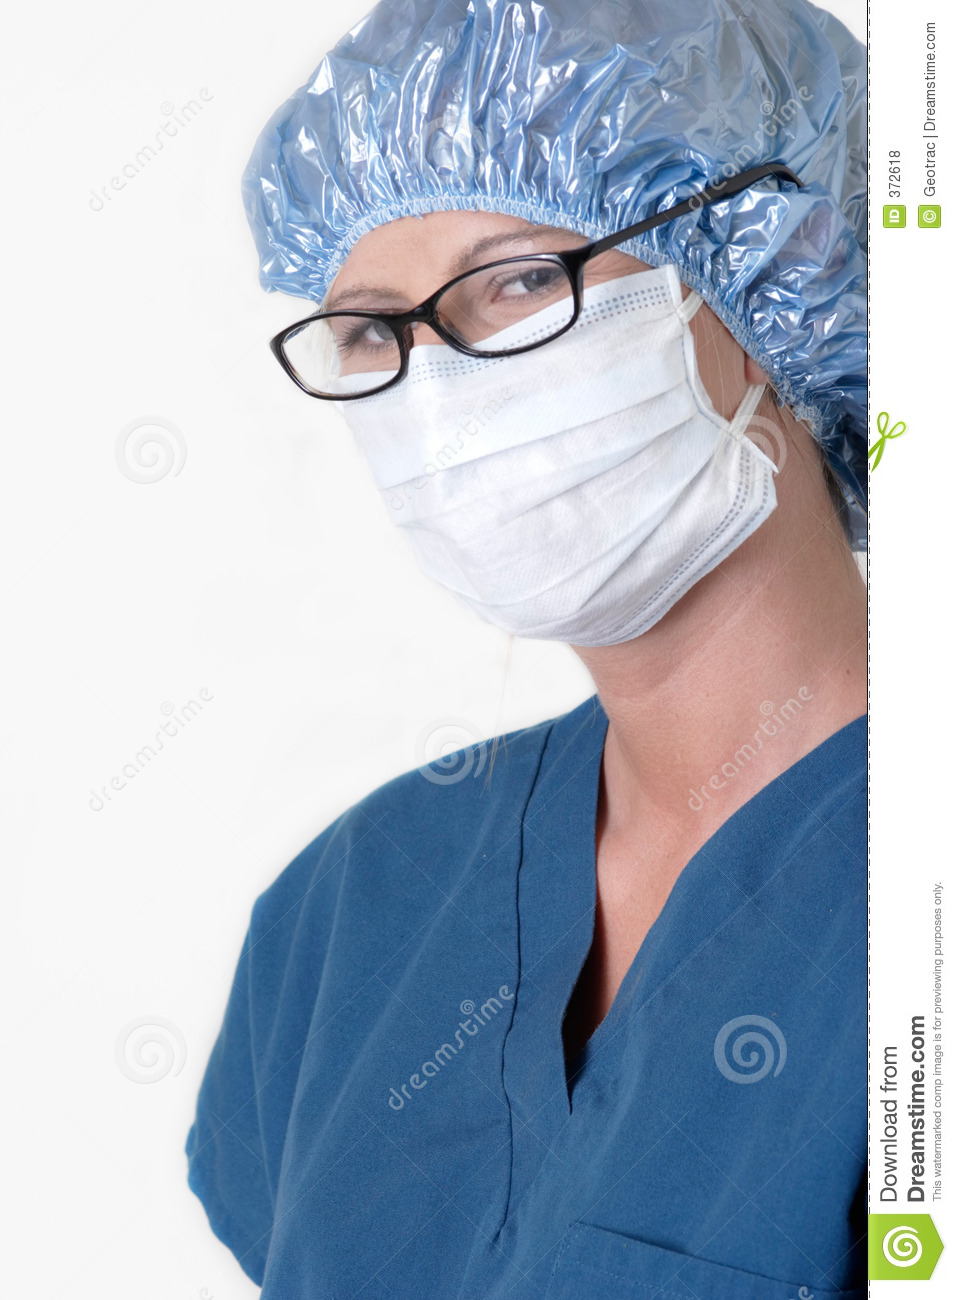mask: (316, 291, 754, 645)
